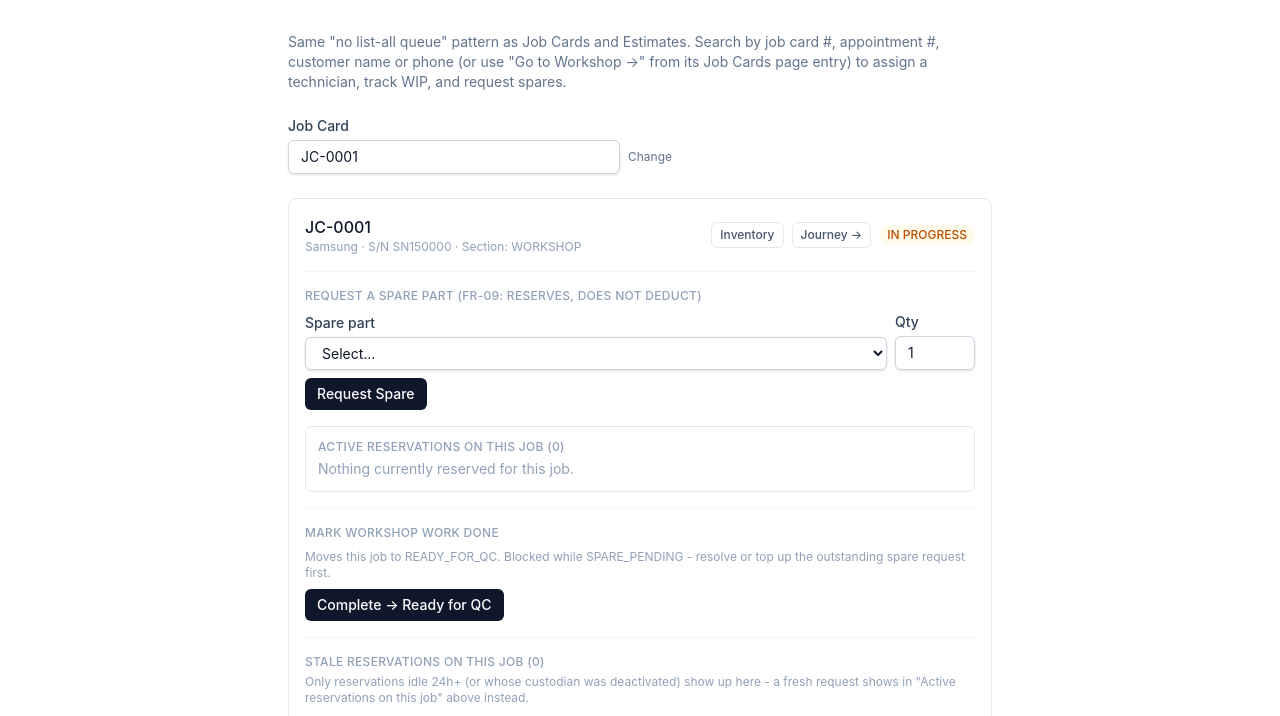
Test: WorkshopPage - inline Stock lookup pill (Modification Request 2026-09-15) › looks up stock from inside the modal using the same panel Inventory & Stock uses
The image size is (1280, 716).
Click the button "Inventory".
click(747, 235)  # box [711, 222, 784, 248]
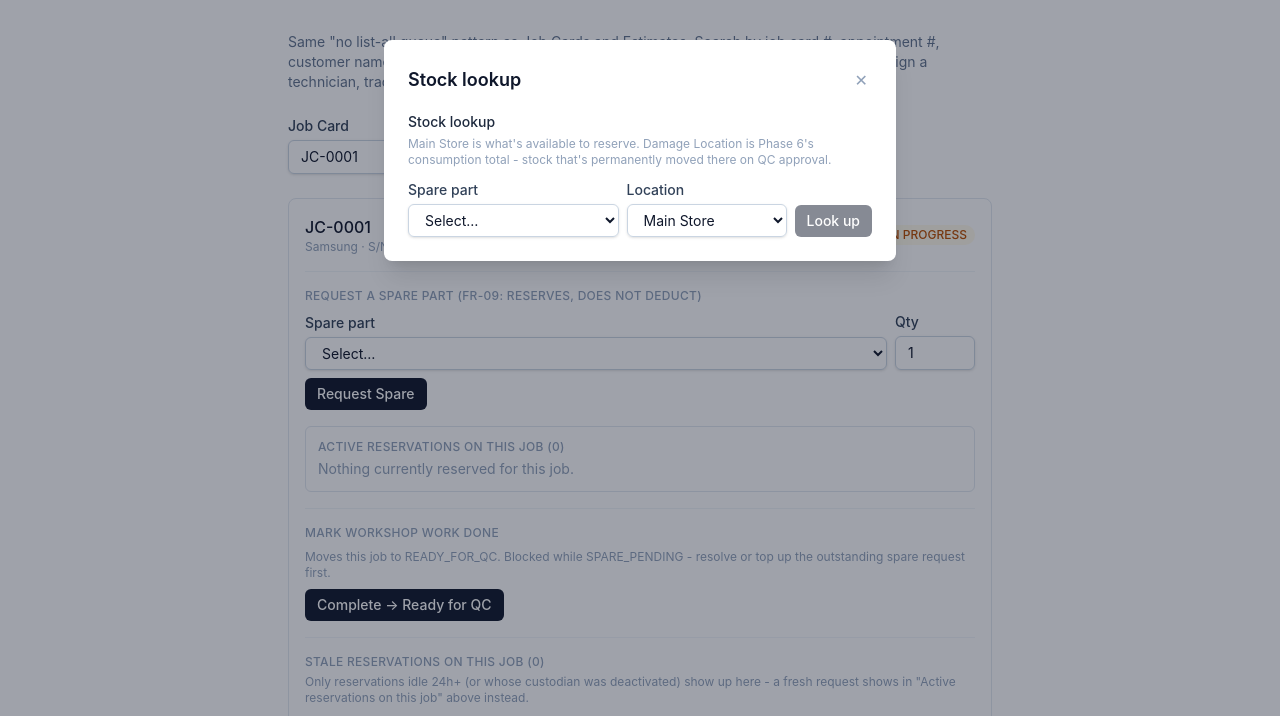
Select "SP-001 — Compressor" in the dropdown labelled "Spare part" at coordinates (513, 220), box [408, 204, 618, 237]
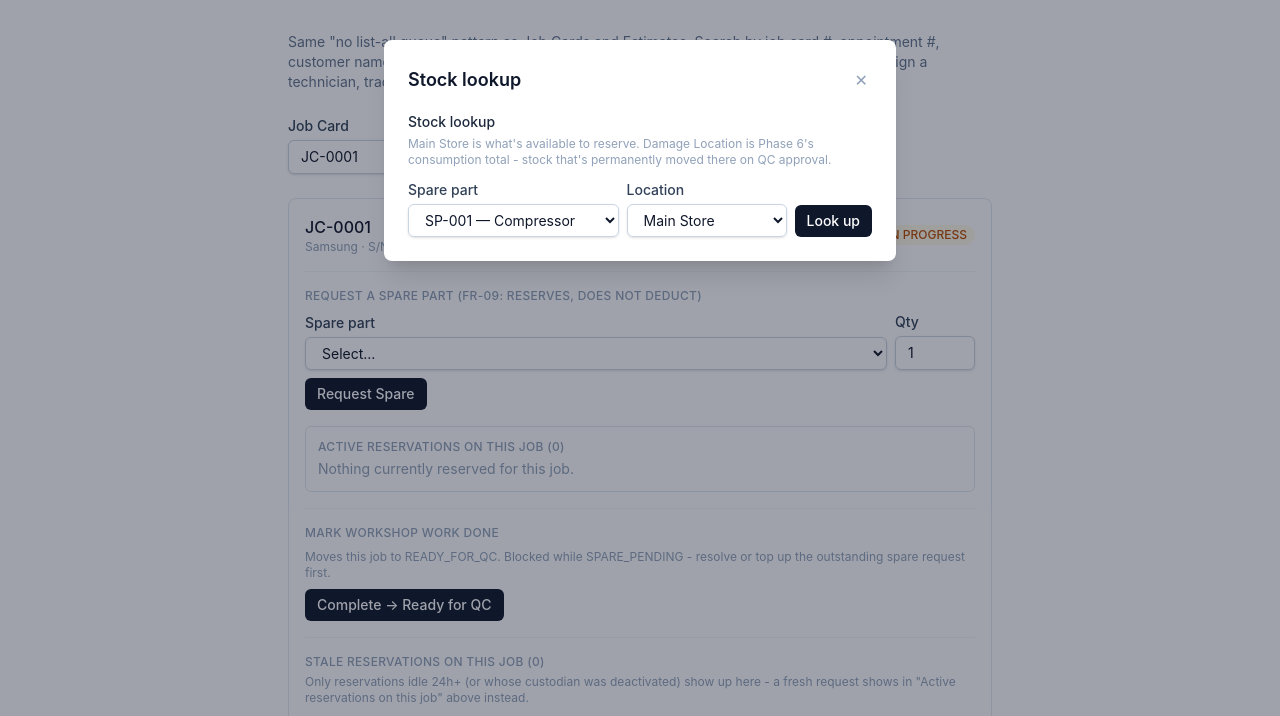
Click the button "Look up".
click(833, 221)  # box [794, 205, 872, 237]
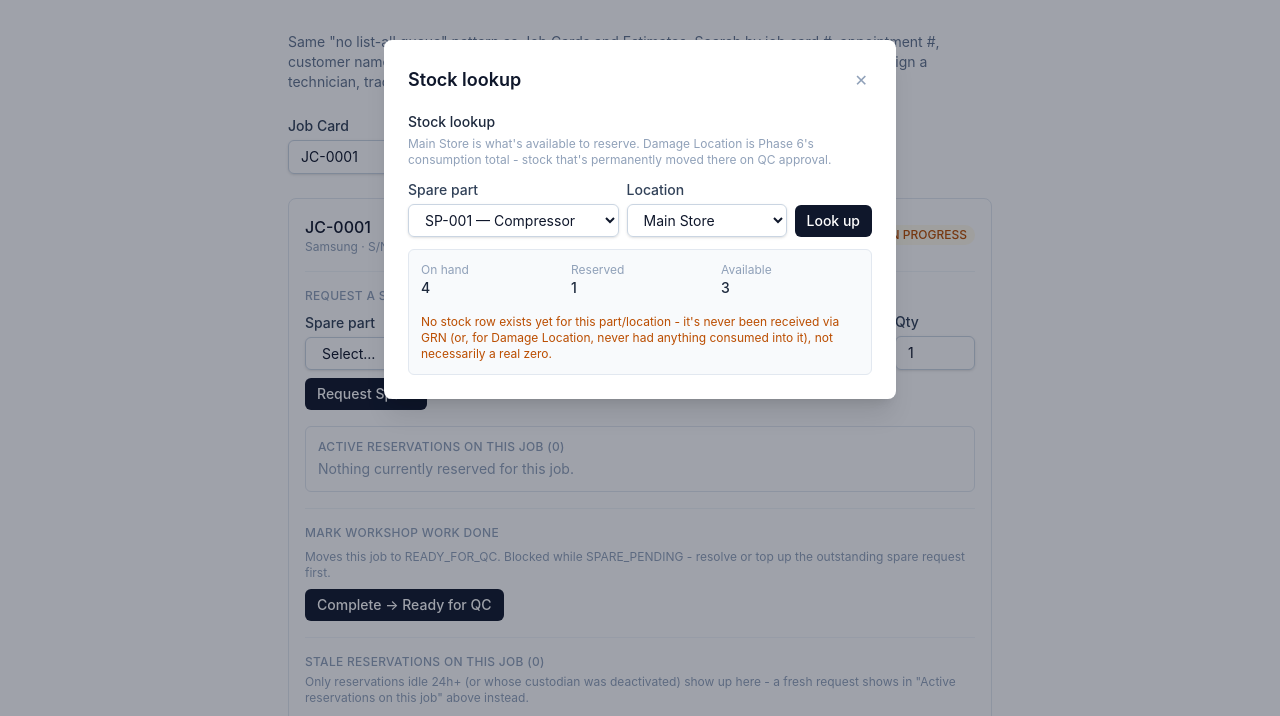
Now the text "4" is shown, box [421, 279, 430, 296]
